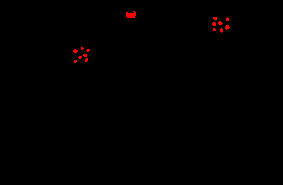Target: (126, 11, 136, 18), (225, 25, 230, 30), (218, 21, 223, 25), (73, 49, 78, 53), (212, 22, 216, 26), (220, 28, 223, 33), (213, 17, 217, 20), (226, 17, 229, 21), (86, 49, 90, 52), (83, 54, 87, 57), (78, 56, 82, 59), (85, 58, 88, 62), (213, 28, 216, 31), (81, 47, 84, 50), (74, 60, 77, 63)
